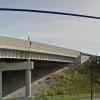Bridge: (4, 29, 79, 77)
